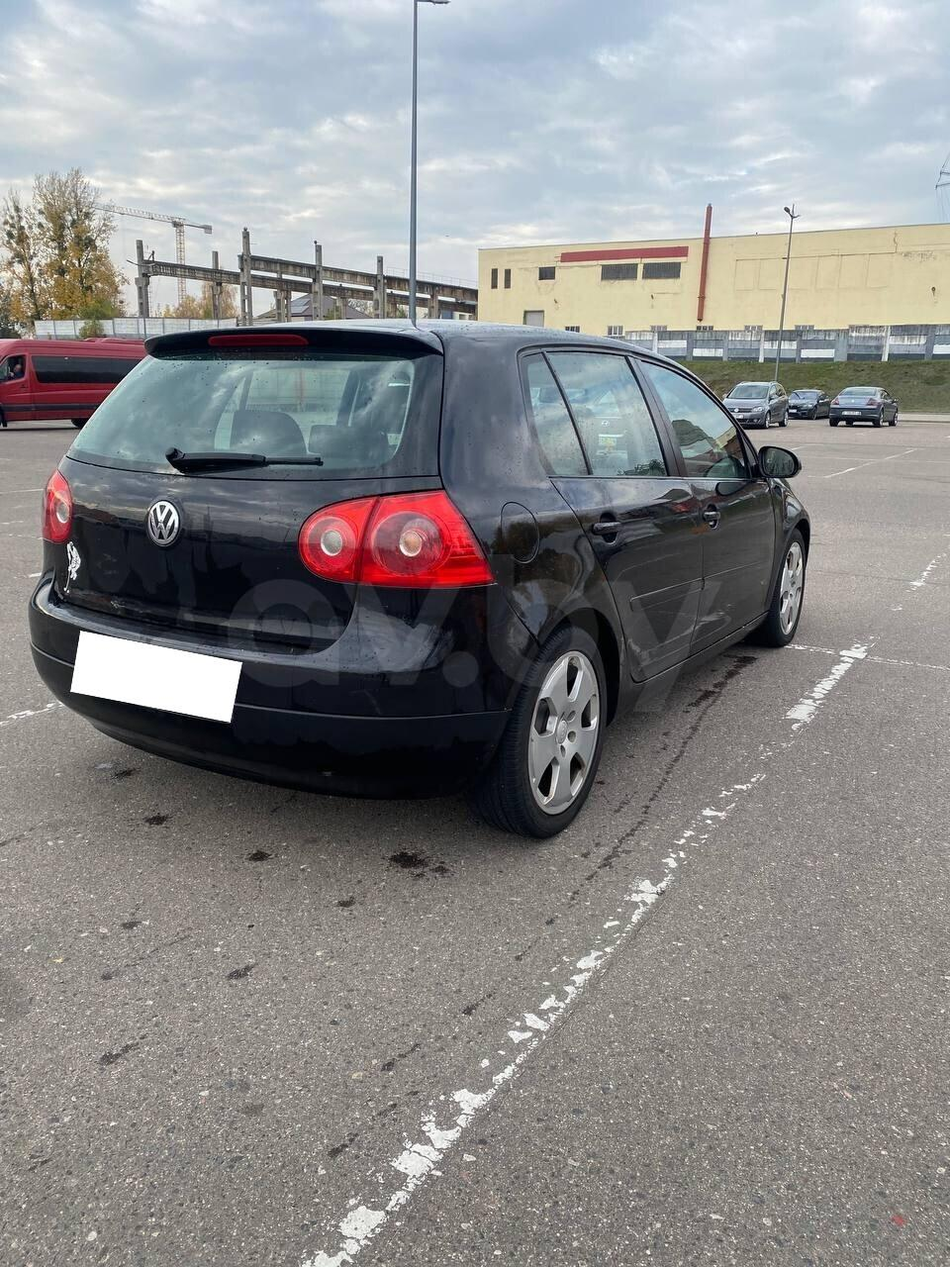Golf_2003-2009: (25, 322, 837, 829)
